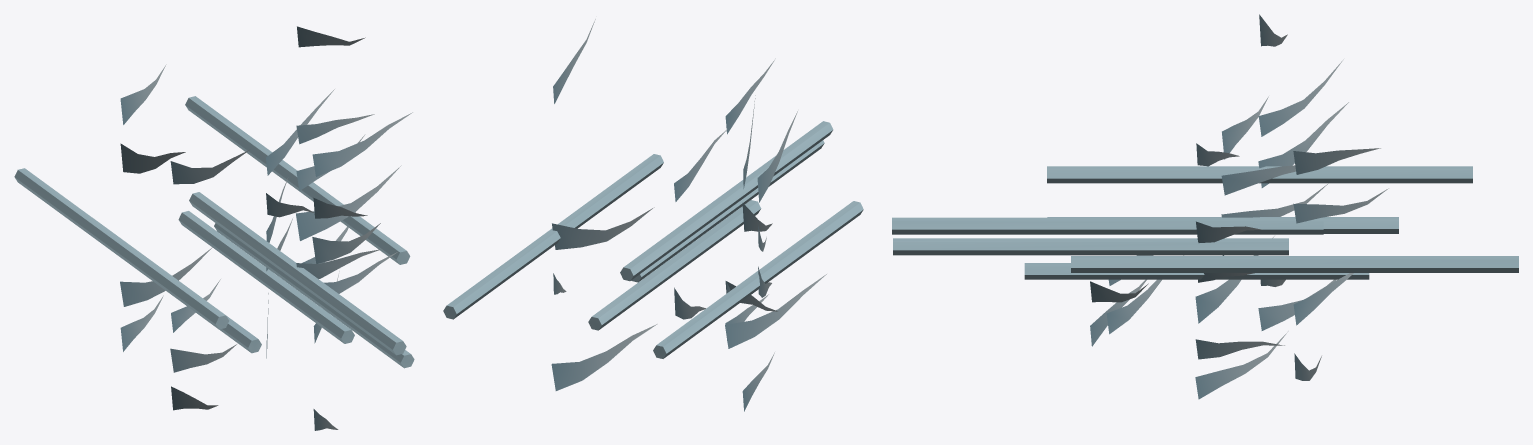
Rendered from mesh-plant-048-pinkstem_LOD1.glb.
3 renders of one model, left to right at view 1: azimuth 30°, elevation 25°; view 2: azimuth 150°, elevation 25°; view 3: azimuth 270°, elevation 25°, orthographic. The views are drawn at different scales.
Parts seen in each view (by area): view 1: geometry_0; view 2: geometry_0; view 3: geometry_0.
Part boxes in pixels (bbox=[...]): geometry_0: bbox=[14, 26, 414, 430]; geometry_0: bbox=[443, 19, 863, 411]; geometry_0: bbox=[892, 14, 1518, 399].
Size of the model in its own units: 0.9399 by 0.9558 by 1.48.
